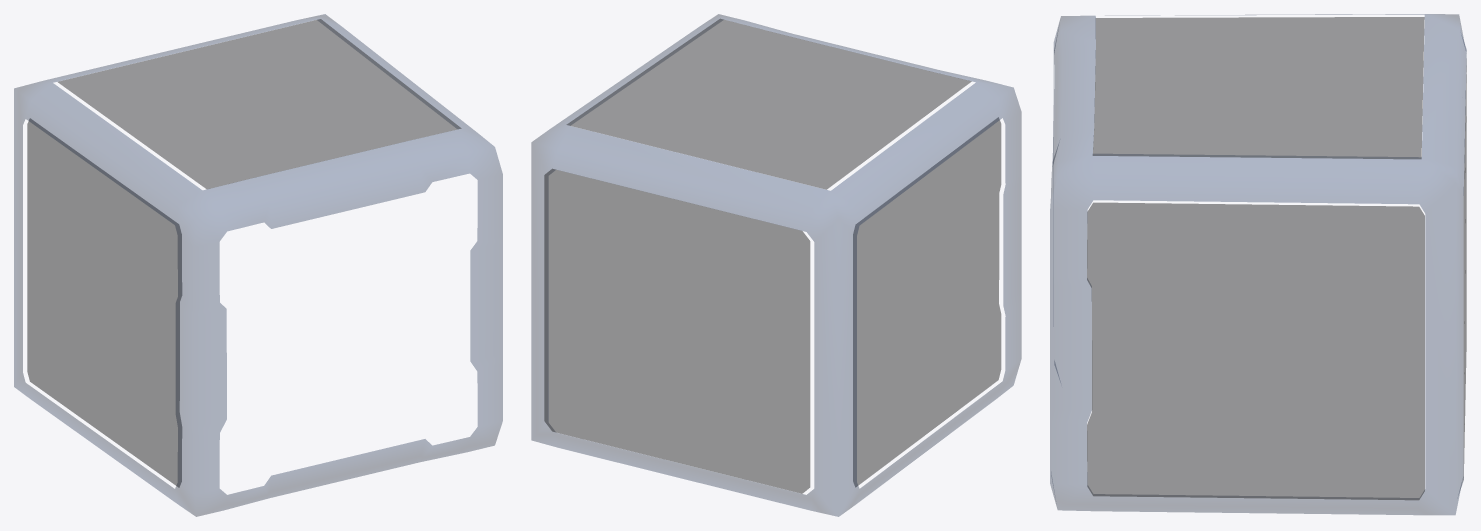
Rendered from Atom_Box.gltf.
3 views of the same model, side by side, from view 1: azimuth 30°, elevation 25°; view 2: azimuth 150°, elevation 25°; view 3: azimuth 270°, elevation 25° (orthographic). The views are drawn at different scales.
Parts seen in each view (by area): view 1: Atom_Box_13; view 2: Atom_Box_13; view 3: Atom_Box_13.
Part boxes in pixels (<box>): Atom_Box_13: <box>14,14,502,516</box>; Atom_Box_13: <box>531,14,1021,516</box>; Atom_Box_13: <box>1050,14,1466,514</box>.
Bounding box in the file's own units: 2.13 × 2.02 × 2.14.
